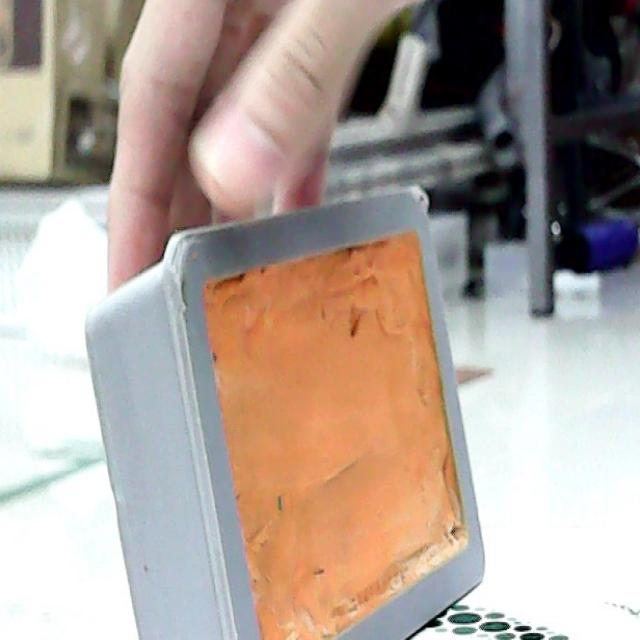block: (85, 187, 483, 640)
